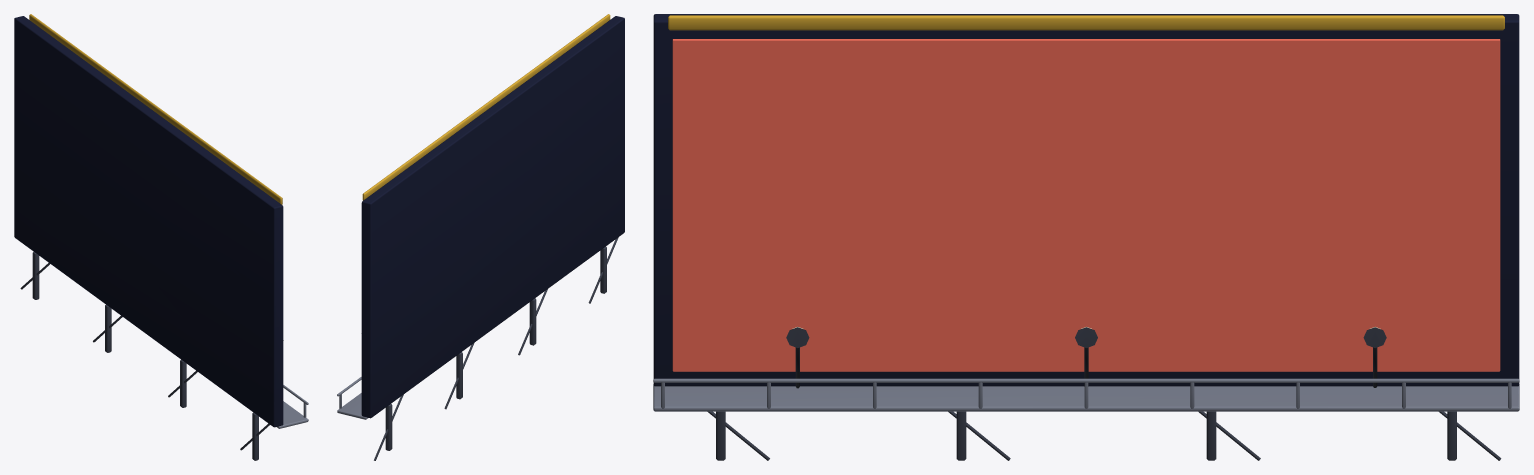
File: SM_City_RooftopBillboard.fbx
3 views of the same model, side by side, from view 1: azimuth 30°, elevation 25°; view 2: azimuth 150°, elevation 25°; view 3: azimuth 270°, elevation 25° (orthographic). The views are drawn at different scales.
Visible parts, largest first — view 1: SM_City_RooftopBillboard; view 2: SM_City_RooftopBillboard; view 3: SM_City_RooftopBillboard.
Boxes of the visible parts, x1=… form: SM_City_RooftopBillboard: x1=14, y1=14, x2=308, y2=460; SM_City_RooftopBillboard: x1=337, y1=14, x2=624, y2=460; SM_City_RooftopBillboard: x1=653, y1=14, x2=1519, y2=460.
Bounding box in the file's own units: 105 × 519 × 900.
